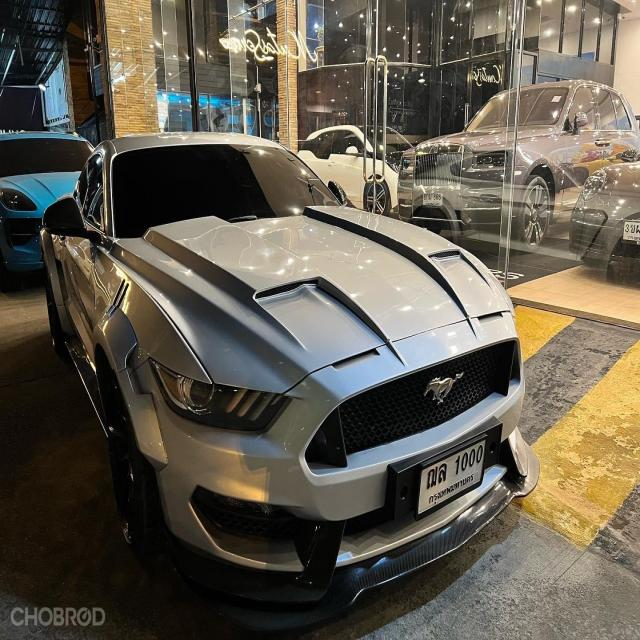license_plate: (409, 428, 492, 521)
